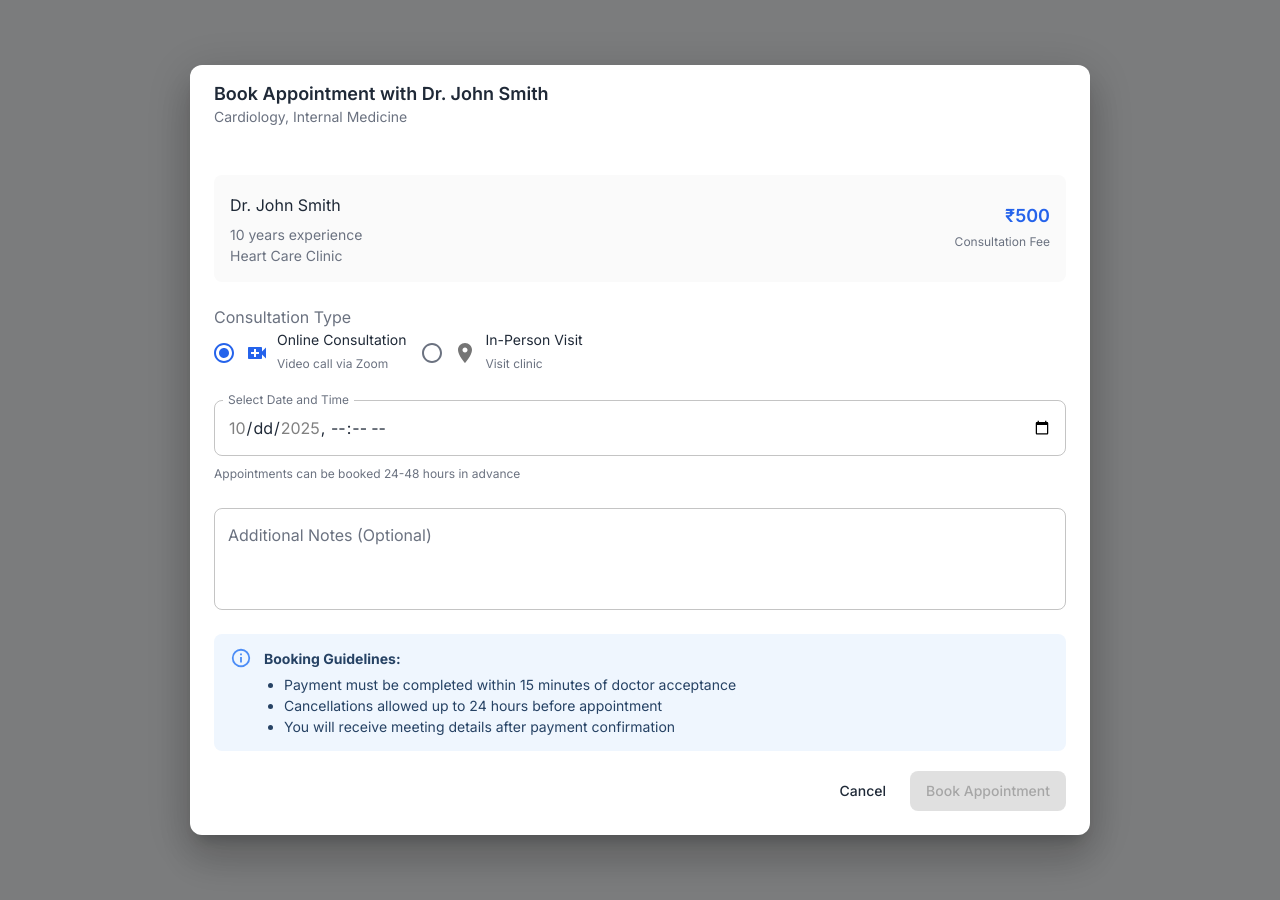
Test: AppointmentBooking Integration Tests › should allow selecting appointment type (online/physical)
The width and height of the screenshot is (1280, 900).
Expected: the radio button labelled "Online Consultation Video call via Zoom" is checked, [203,329,406,376]
Click the radio button labelled "In-Person Visit Visit clinic" at (534, 340), box [411,329,583,376]
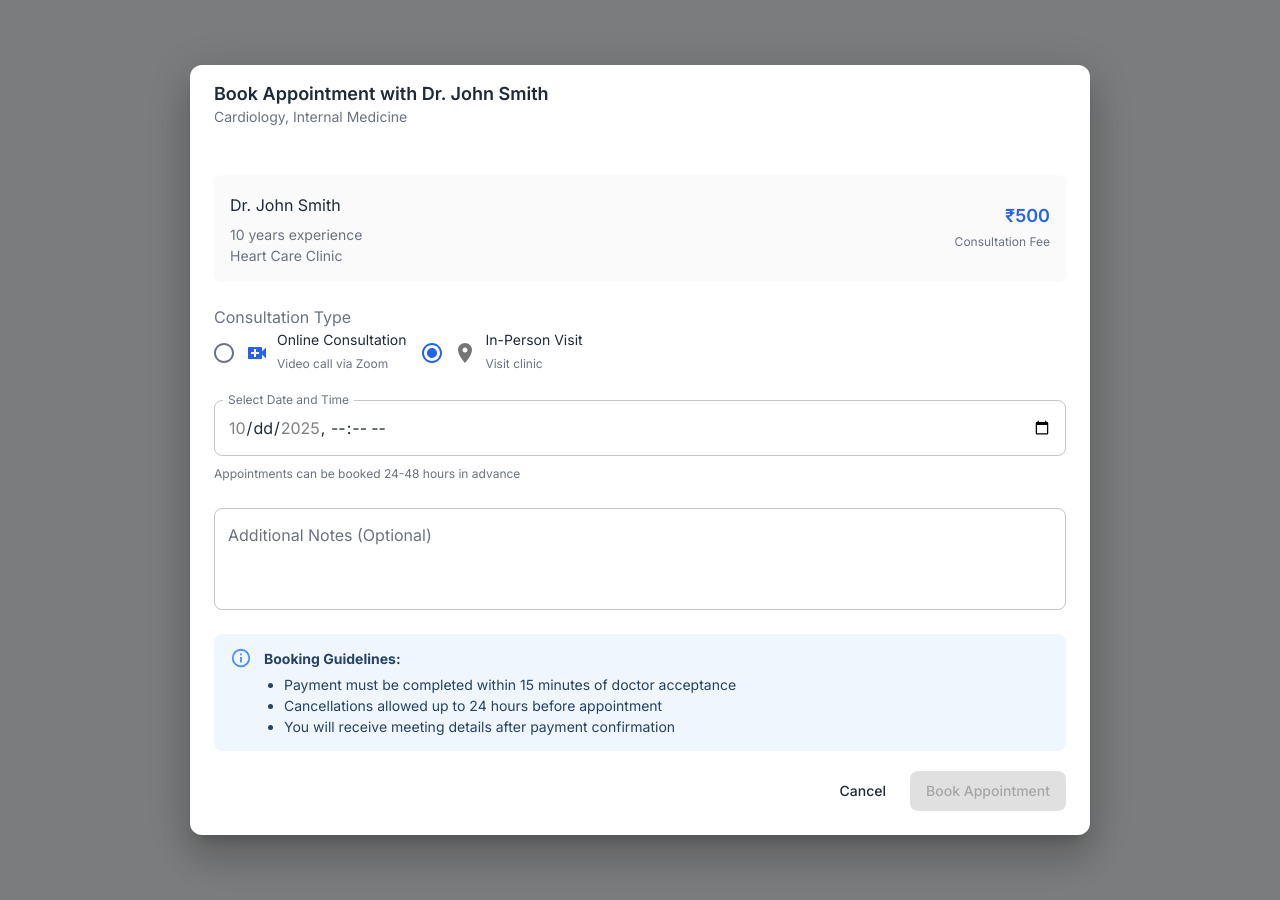
Now the radio button labelled "In-Person Visit Visit clinic" is checked, box [411,329,583,376]
Now the radio button labelled "Online Consultation Video call via Zoom" is not checked, box [203,329,406,376]
